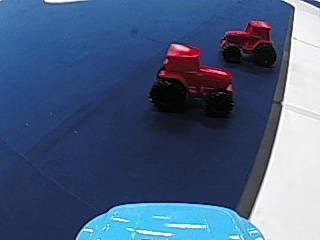tractor: (148, 40, 239, 117), (218, 18, 278, 66)
